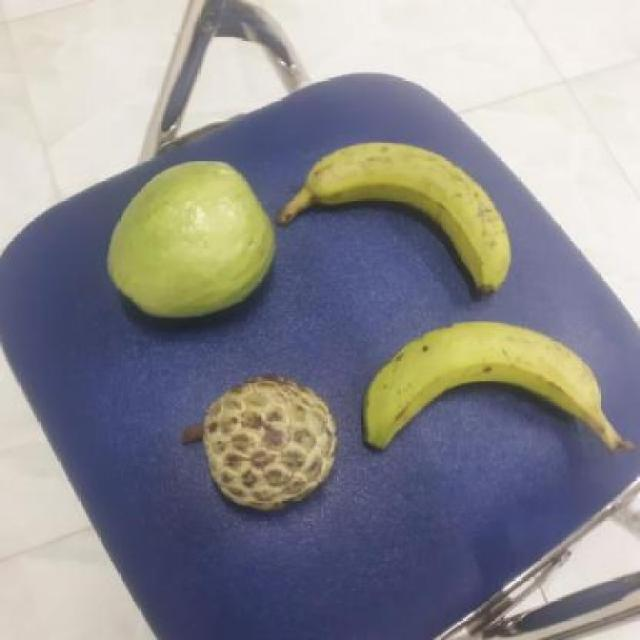banana: (272, 142, 508, 296), (353, 322, 602, 452)
guava: (100, 166, 275, 319)
sugar apple: (180, 376, 334, 510)
